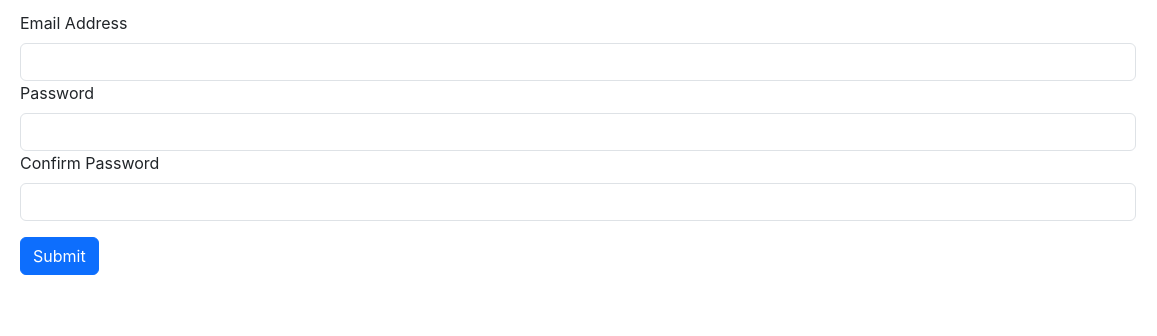
Scenario: App testing › Error message tests › check showing password error mesage if password doesn't match
Expected: the text "the passwords doesn't match" is not shown
Type "test@test.com" into the field labelled "Email Address".
click(578, 62); type("test@test.com")  # box 20,43 -> 1136,81
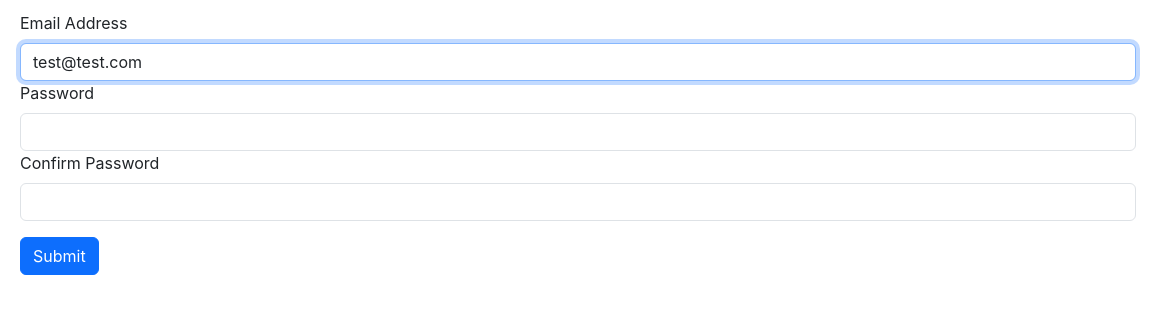
Type "This is the password!" into the password field labelled "Password".
click(578, 132); type("This is the password!")  # box 20,113 -> 1136,151
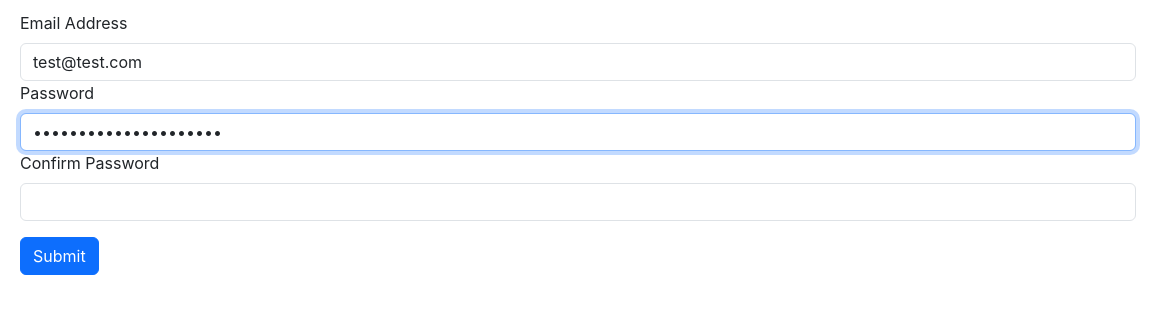
Type "This is the password" into the password field labelled "Confirm Password".
click(578, 202); type("This is the password")  # box 20,183 -> 1136,221
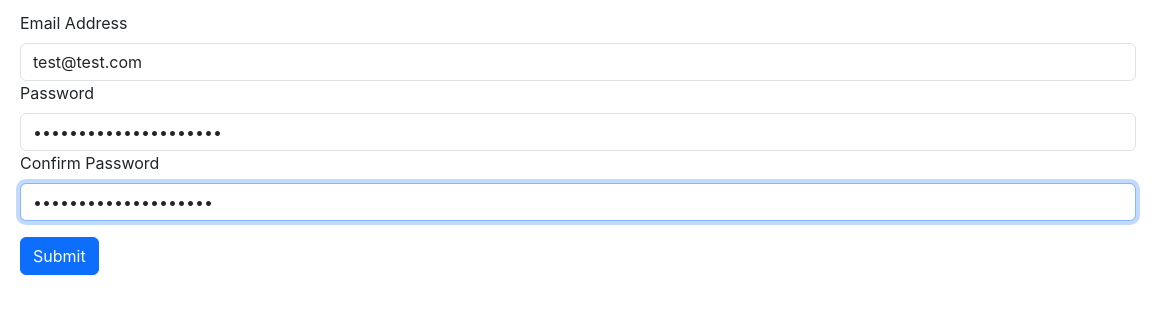
Click the button "Submit".
click(59, 256)  # box 20,237 -> 99,275
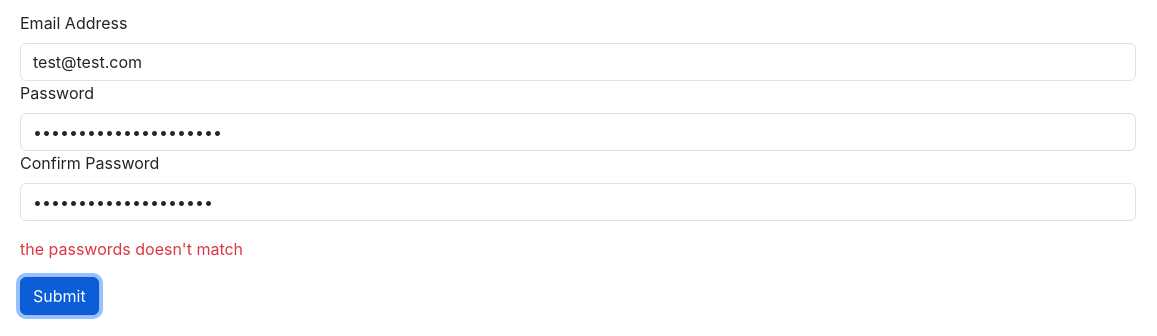
Now the text "the passwords doesn't match" is shown, box 20,239 -> 243,259
